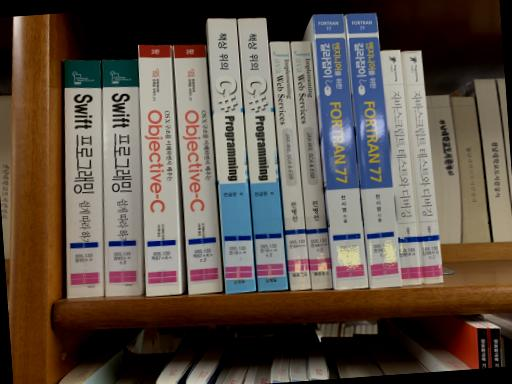book-spine: (313, 13, 368, 290), (347, 12, 402, 289), (238, 18, 288, 291), (208, 18, 255, 293), (173, 44, 222, 295), (291, 42, 333, 290), (139, 45, 180, 296), (270, 41, 311, 291), (381, 50, 422, 286), (402, 50, 443, 284), (63, 60, 103, 298), (103, 59, 142, 296)
